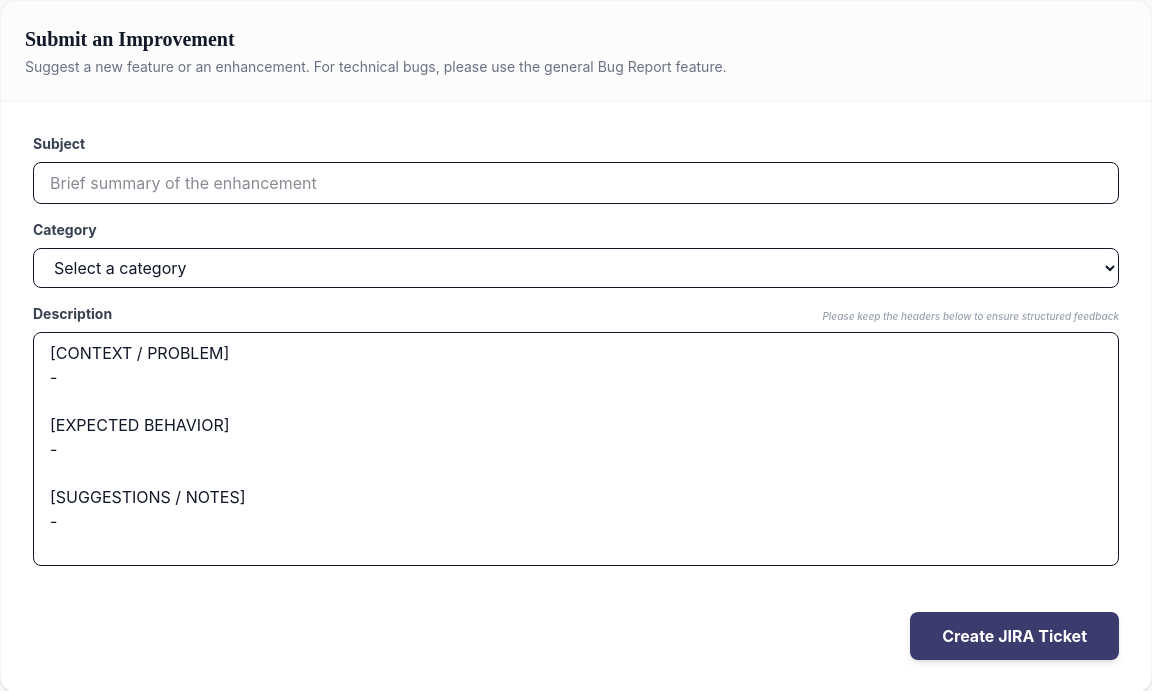
it: ImprovementForm UI › submits improvement successfully
The image size is (1152, 691).
In the field with placeholder "Brief summary of the enhancement": (576, 183) [33,162,1119,204], type "New Feature"
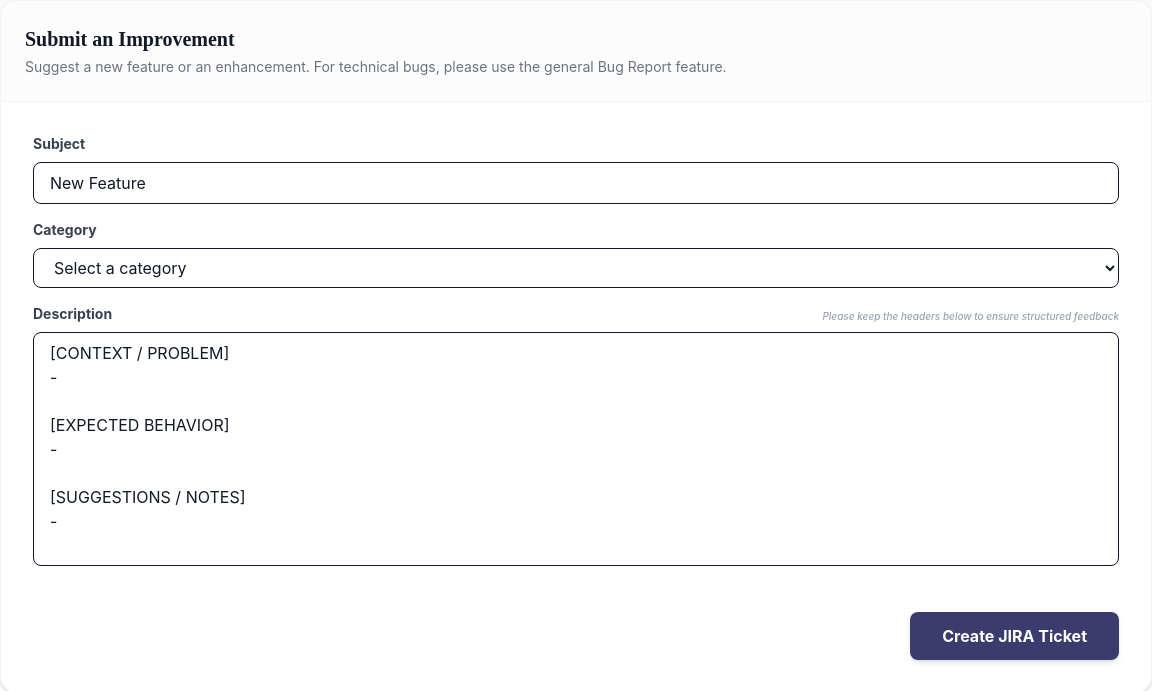
Select "Events" in the dropdown: (576, 268) [33,248,1119,288]
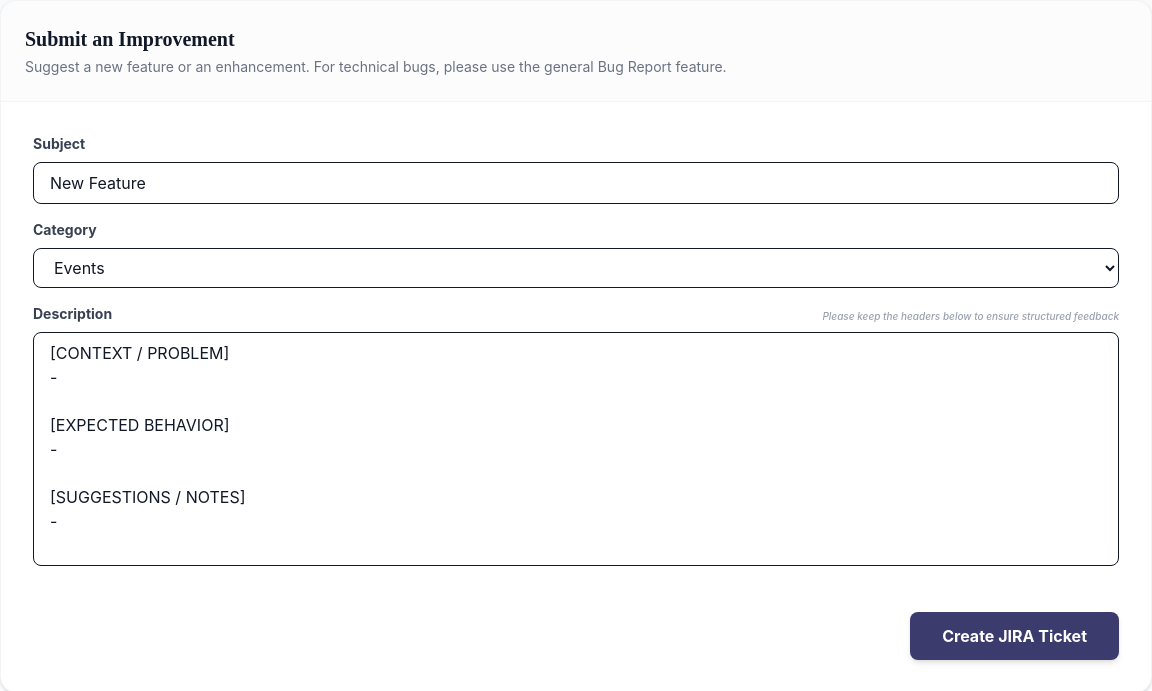
Click the button "Create JIRA Ticket": (1015, 636) [910,612,1119,660]
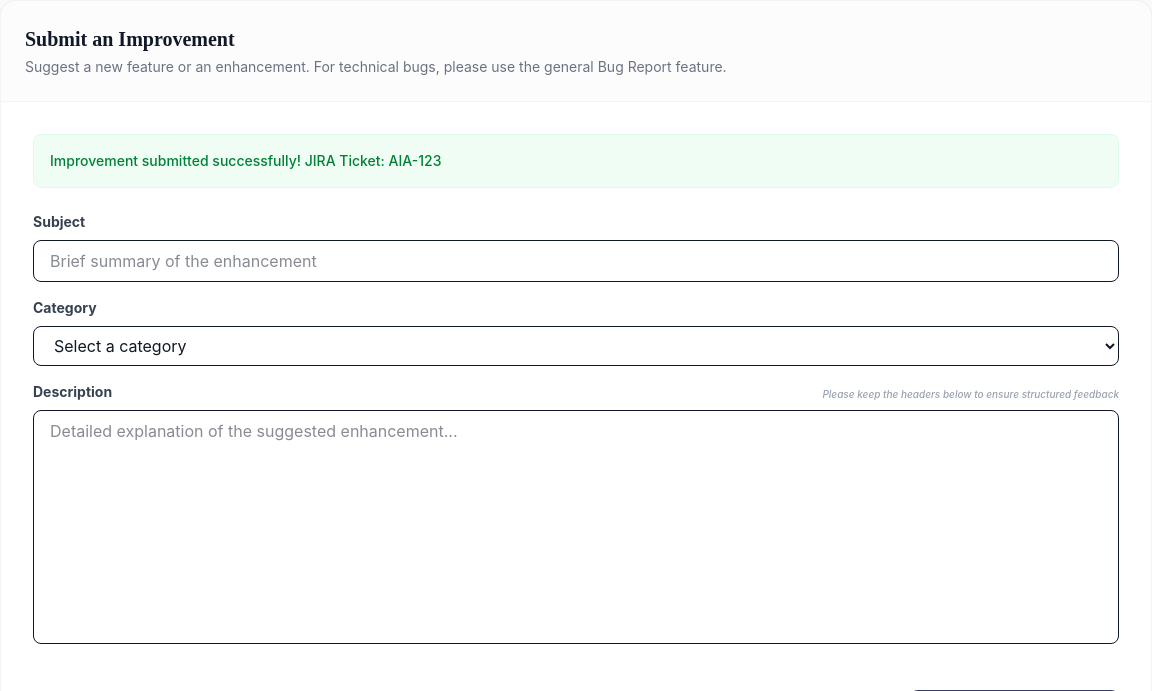
Result: the text "Improvement submitted successfully! JIRA Ticket: AIA-123" is shown at [33,134,1119,188]
